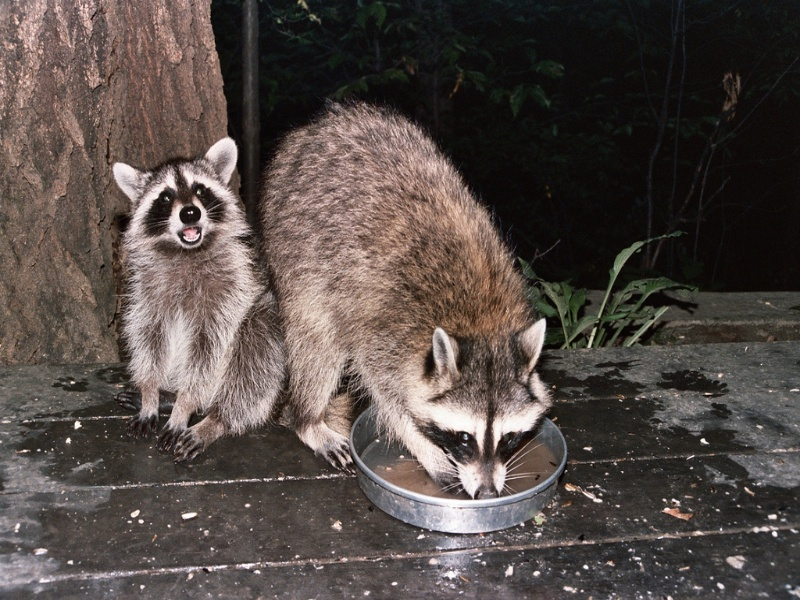raccoon: (267, 100, 555, 509), (109, 137, 284, 465)
